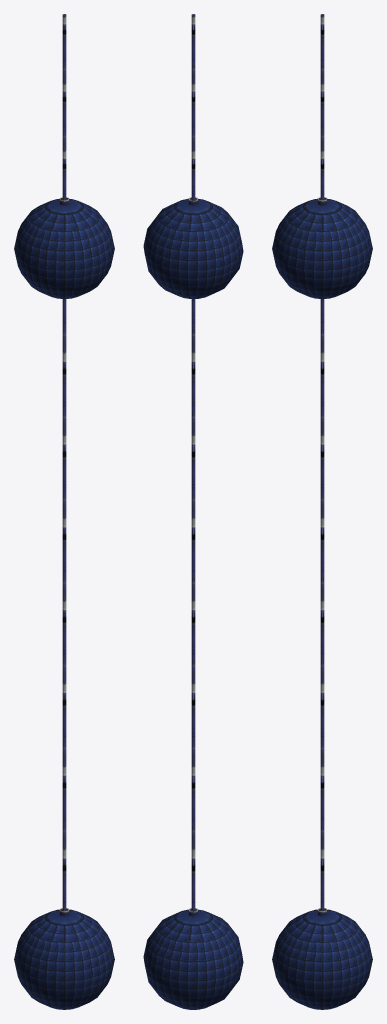
File: stg300_MotMirrorball_07.obj
3 renders of one model, left to right at view 1: azimuth 90°, elevation 25°; view 2: azimuth 150°, elevation 25°; view 3: azimuth 270°, elevation 25°, orthographic.
Parts seen in each view (by area): view 1: polygon0, polygon1; view 2: polygon0, polygon1; view 3: polygon0, polygon1.
Part boxes in pixels (box(x1,y1,x2,y2)): polygon0: box(14, 198, 114, 1009); polygon1: box(60, 14, 68, 916); polygon0: box(143, 198, 243, 1009); polygon1: box(189, 14, 197, 916); polygon0: box(272, 198, 372, 1009); polygon1: box(318, 14, 326, 916).
Size of the model in its own units: 19.94 by 216 by 19.94.
2 materials, 2 textured.
